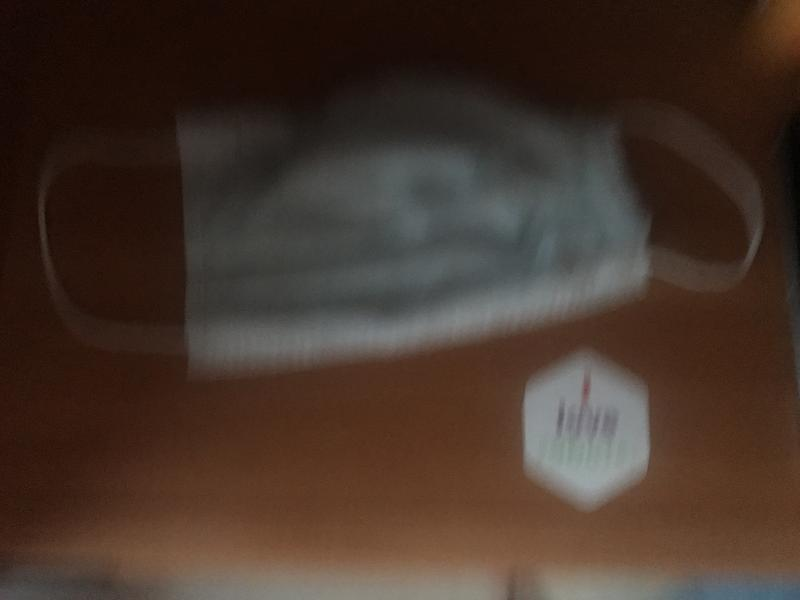medical_mask: (39, 129, 761, 362)
